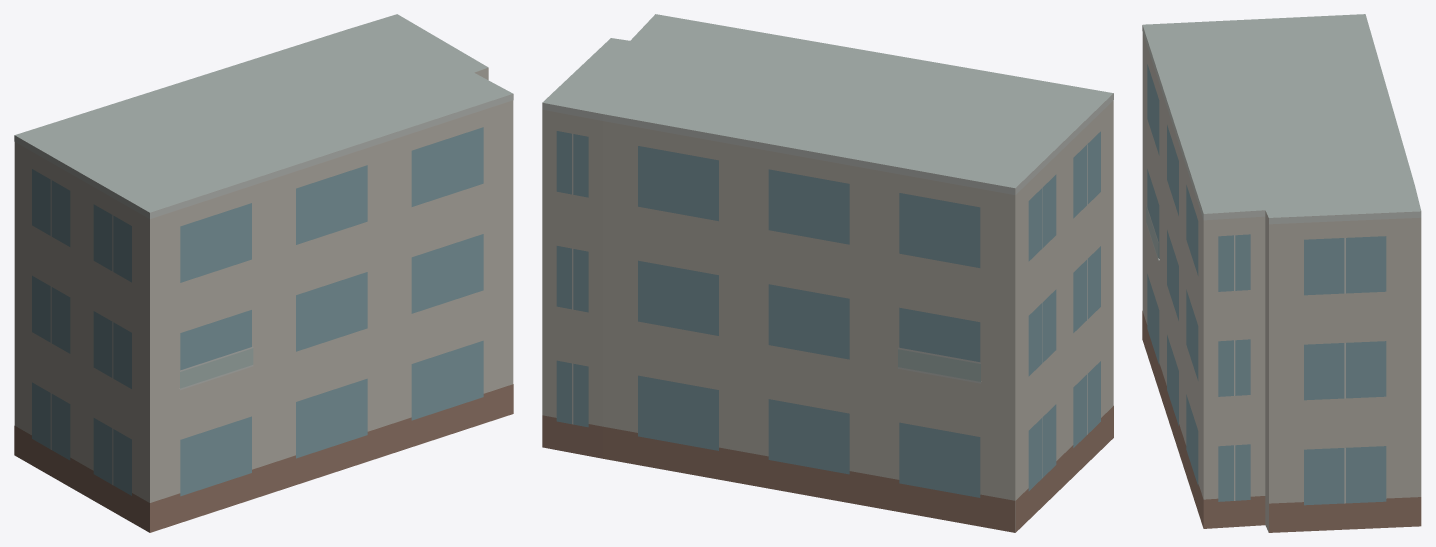
The model's file is survey-upis-32982859.glb.
3 views of the same model, side by side, from view 1: azimuth 30°, elevation 25°; view 2: azimuth 150°, elevation 25°; view 3: azimuth 270°, elevation 25° (orthographic). The views are drawn at different scales.
Visible parts, largest first — view 1: survey-upis-32982859.tmp; view 2: survey-upis-32982859.tmp; view 3: survey-upis-32982859.tmp.
Boxes of the visible parts, <box> form: survey-upis-32982859.tmp: <box>14,14,513,532</box>; survey-upis-32982859.tmp: <box>542,14,1113,532</box>; survey-upis-32982859.tmp: <box>1142,14,1421,532</box>.
Bounding box in the file's own units: 16.82 × 12.1 × 9.73.
